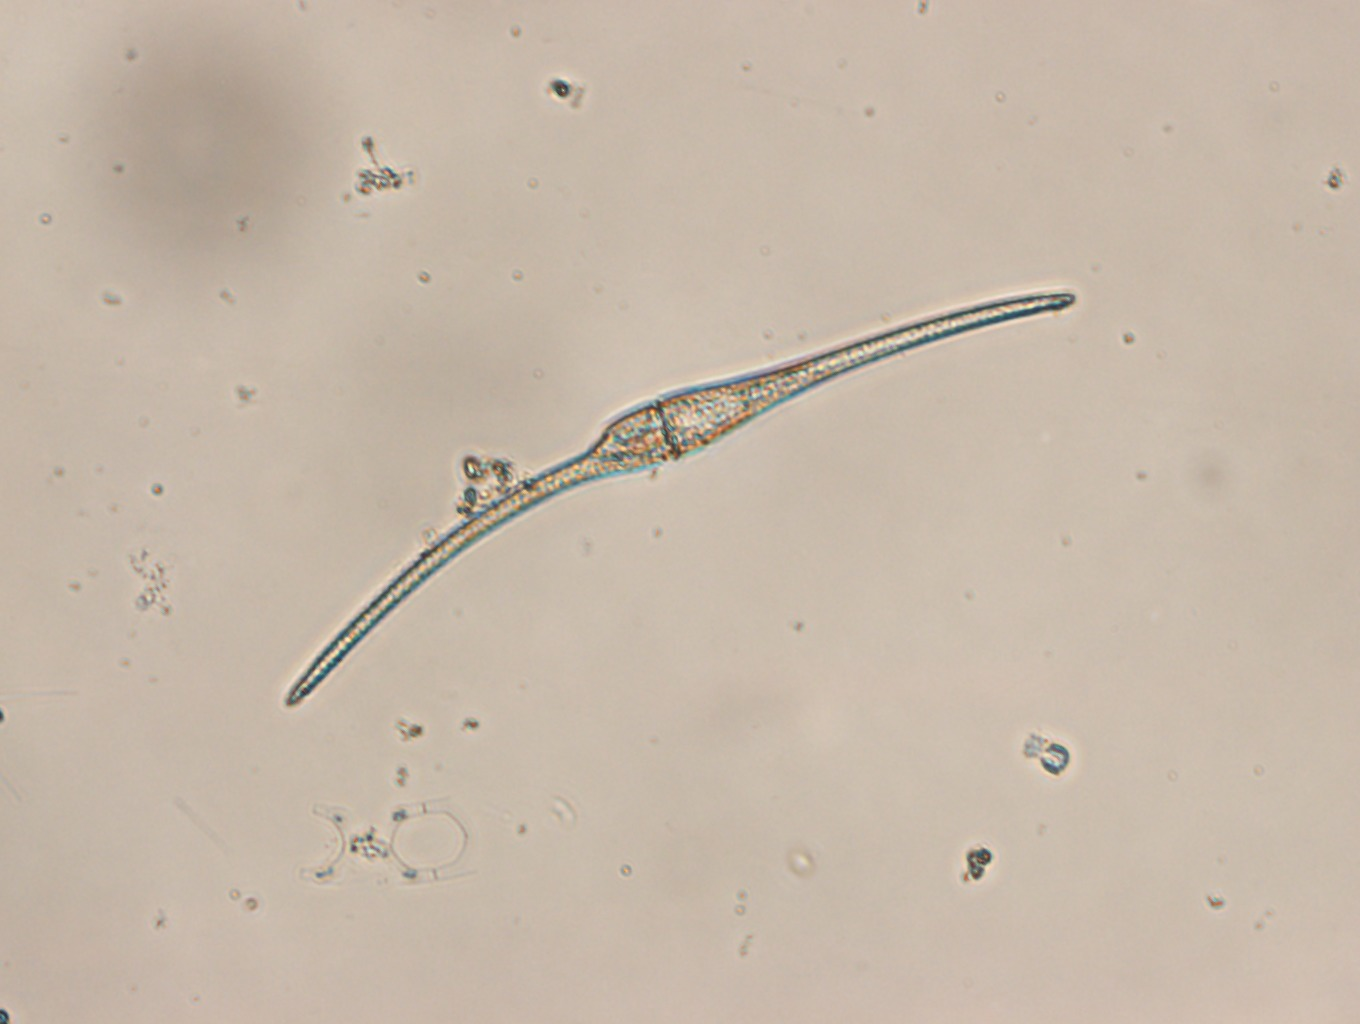ceratium fusus: (282, 286, 1077, 712)
